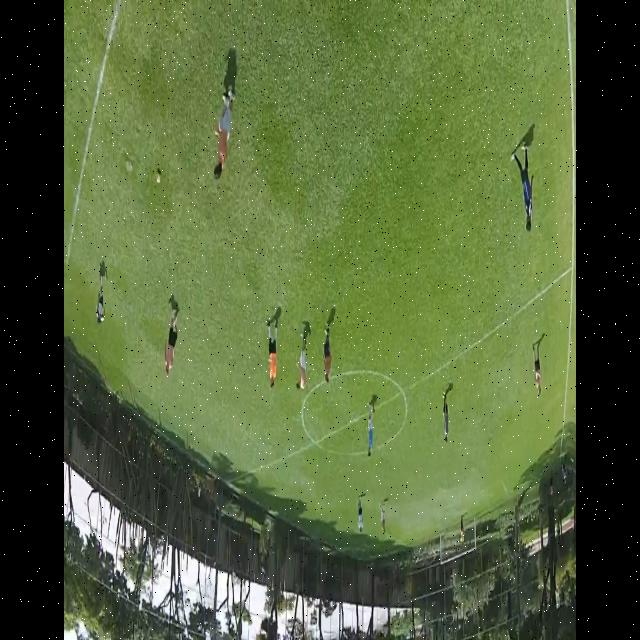humans: (210, 85, 236, 185), (513, 136, 533, 240), (162, 304, 180, 380), (265, 314, 281, 392), (294, 326, 311, 394), (530, 334, 548, 398), (362, 396, 376, 465), (320, 322, 334, 387), (442, 382, 452, 452), (96, 269, 108, 326), (378, 492, 390, 539), (356, 488, 366, 540), (456, 511, 466, 551)
